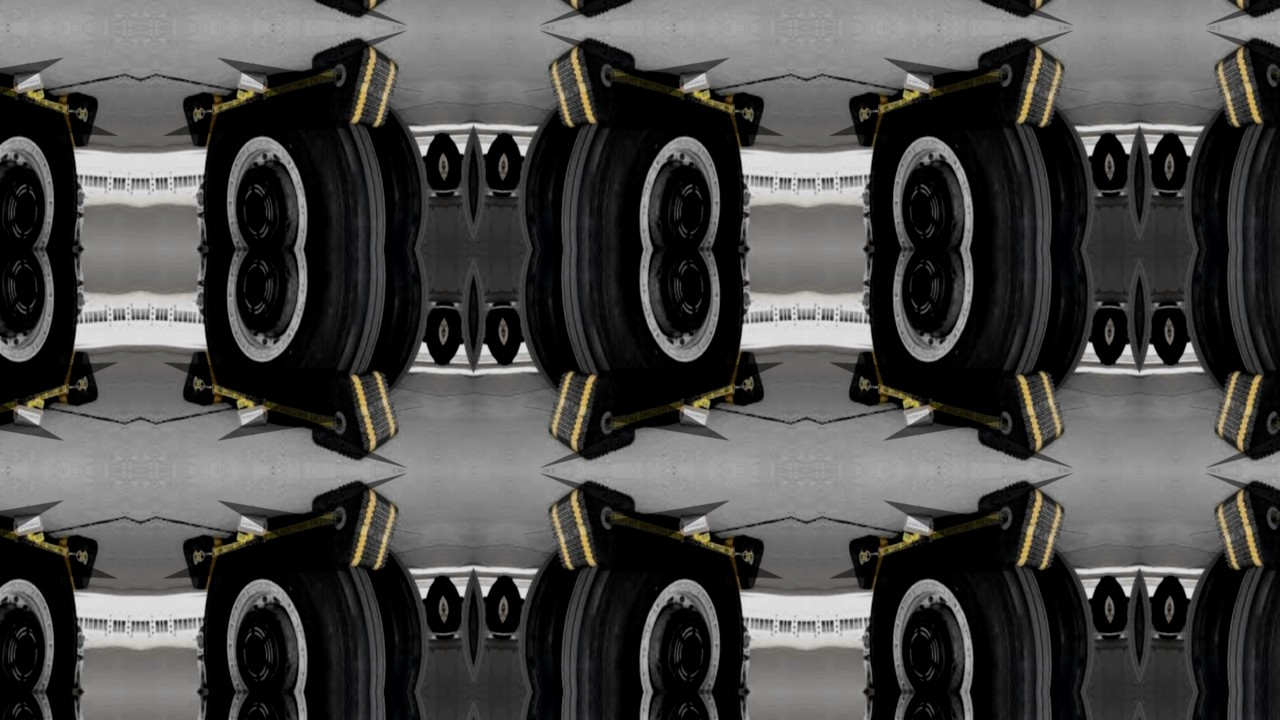chock: (309, 479, 403, 575), (544, 479, 638, 575), (975, 479, 1069, 575), (309, 36, 403, 131), (544, 36, 638, 131), (975, 36, 1069, 131), (309, 367, 403, 462), (544, 367, 638, 462), (975, 367, 1069, 462), (1211, 479, 1280, 575), (1211, 36, 1280, 131), (1211, 367, 1280, 462), (62, 93, 99, 149), (181, 93, 218, 149), (728, 93, 765, 149), (848, 93, 885, 149), (62, 349, 99, 405), (181, 349, 218, 405), (728, 349, 765, 405), (848, 349, 885, 405), (62, 536, 99, 592), (181, 536, 218, 592), (728, 536, 765, 592), (848, 536, 885, 592), (309, 0, 403, 19), (544, 0, 638, 19), (975, 0, 1069, 19), (1211, 0, 1280, 19)
wheel: (856, 79, 1062, 249), (856, 249, 1062, 419), (856, 522, 1062, 692), (190, 79, 395, 249), (552, 79, 757, 249), (190, 249, 395, 419), (552, 249, 757, 419), (190, 522, 395, 692), (552, 522, 757, 692), (0, 79, 90, 249), (0, 249, 90, 419), (0, 522, 90, 692), (1218, 79, 1280, 249), (1218, 249, 1280, 419), (1218, 522, 1280, 692), (1026, 107, 1098, 249), (1182, 107, 1254, 249), (1026, 249, 1098, 391), (1182, 249, 1254, 391), (1026, 550, 1098, 692), (1182, 550, 1254, 692), (360, 107, 431, 249), (516, 107, 587, 249), (360, 249, 431, 391), (516, 249, 587, 391), (360, 550, 431, 692), (516, 550, 587, 692), (856, 692, 1062, 720), (190, 692, 395, 720), (552, 692, 757, 720), (0, 692, 90, 720), (1026, 692, 1098, 720), (1182, 692, 1254, 720), (360, 692, 431, 720), (516, 692, 587, 720), (442, 133, 463, 190), (424, 134, 445, 191), (484, 133, 505, 190), (502, 134, 523, 191), (1108, 133, 1129, 190), (1090, 134, 1111, 191), (1151, 133, 1172, 190), (1169, 134, 1190, 191), (442, 308, 463, 365), (424, 307, 445, 364), (484, 308, 505, 365), (502, 307, 523, 364), (1108, 308, 1129, 365), (1090, 307, 1111, 364), (1151, 308, 1172, 365), (1169, 307, 1190, 364), (442, 577, 463, 633), (424, 578, 445, 634), (484, 577, 505, 633), (502, 578, 523, 634), (1108, 577, 1129, 633), (1090, 578, 1111, 634), (1151, 577, 1172, 633), (1169, 578, 1190, 634)
